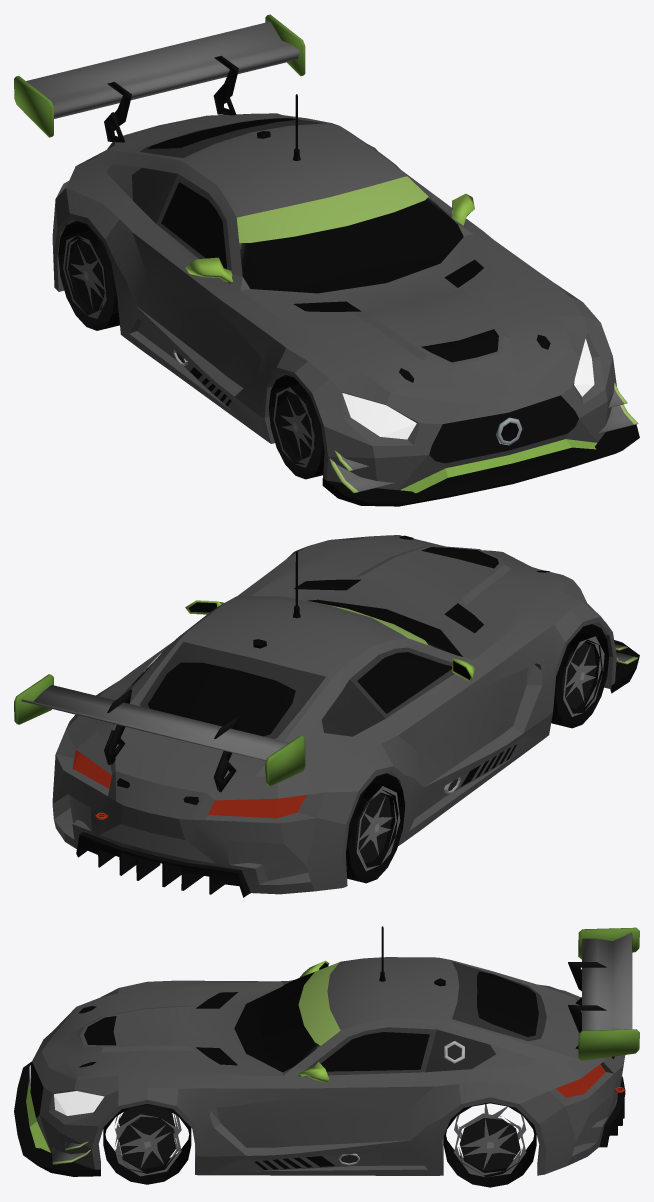
The model's file is tristar-lean.glb.
3 renders of one model, top to bottom at view 1: azimuth 30°, elevation 25°; view 2: azimuth 150°, elevation 25°; view 3: azimuth 270°, elevation 25°, orthographic. The views are drawn at different scales.
Visible parts, largest first — view 1: amg Gt body, rrWheel, rFWheel.001; view 2: amg Gt body, rrWheel, rFWheel.001; view 3: amg Gt body, lfWheel.001, lrWheel.002.
Part boxes in pixels (x1,y1,x2,y2): amg Gt body: (14, 14, 639, 506); rrWheel: (58, 221, 119, 330); rFWheel.001: (268, 375, 324, 479); amg Gt body: (14, 535, 639, 897); rrWheel: (346, 773, 404, 883); rFWheel.001: (551, 624, 609, 728); amg Gt body: (14, 926, 639, 1176); lfWheel.001: (103, 1104, 191, 1184); lrWheel.002: (443, 1102, 536, 1187).
Size of the model in its own units: 1.92 by 1.53 by 4.3.
7 materials, 6 textured.
